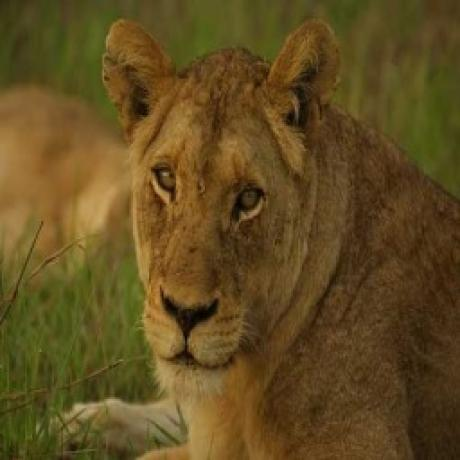Lion: (59, 11, 458, 460)
